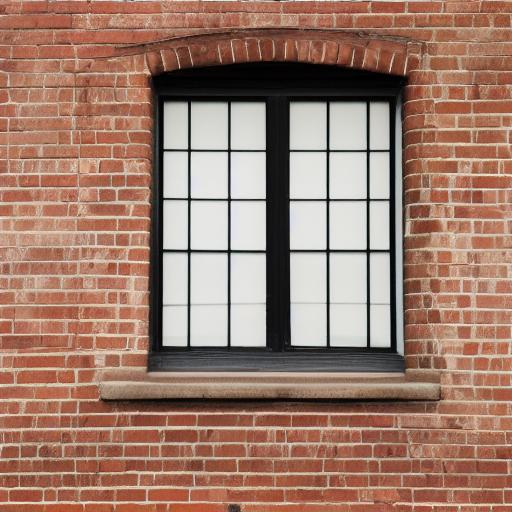Window: (98, 31, 444, 403)
